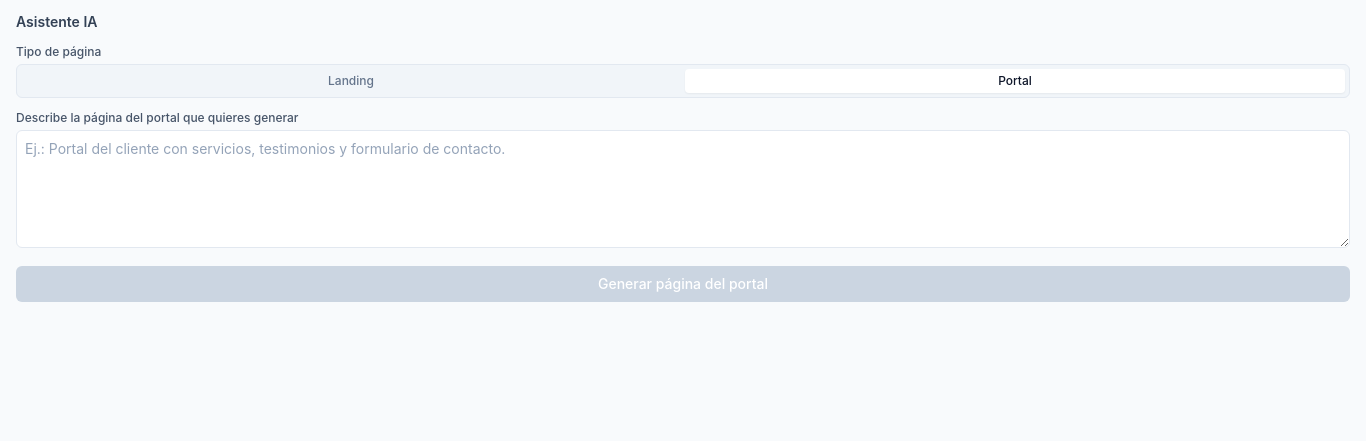
AIPanel › genera una página del portal en modo portal y permite aplicarla
Click the button "Portal": {"x": 1015, "y": 81} [685,69,1345,93]
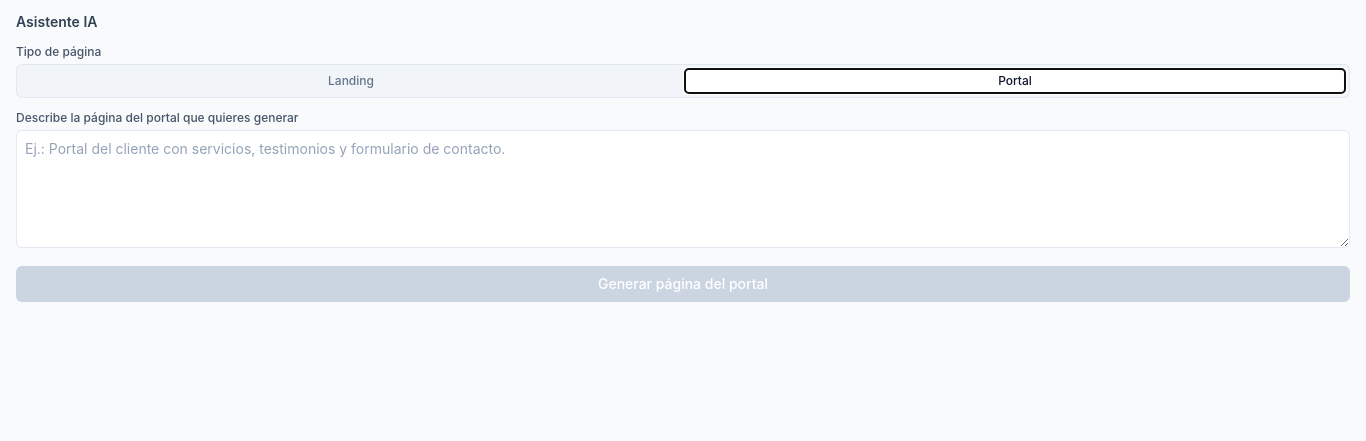
In the text box labelled "Describe la página del portal que quieres generar": {"x": 683, "y": 189} [16,130,1350,248], type "Portal de servicios para una clínica"
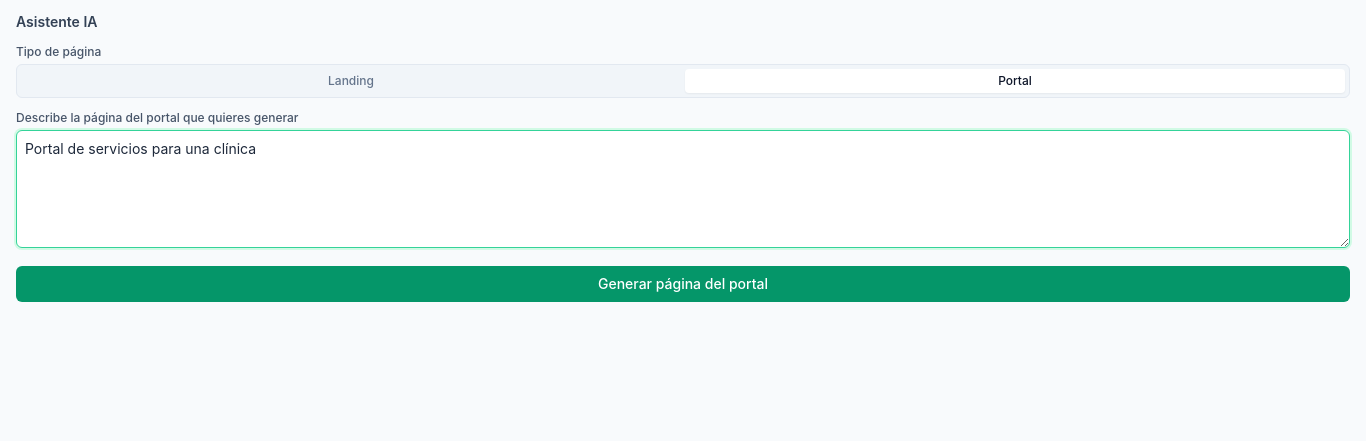
Click the button "Generar página del portal": {"x": 683, "y": 284} [16,266,1350,302]
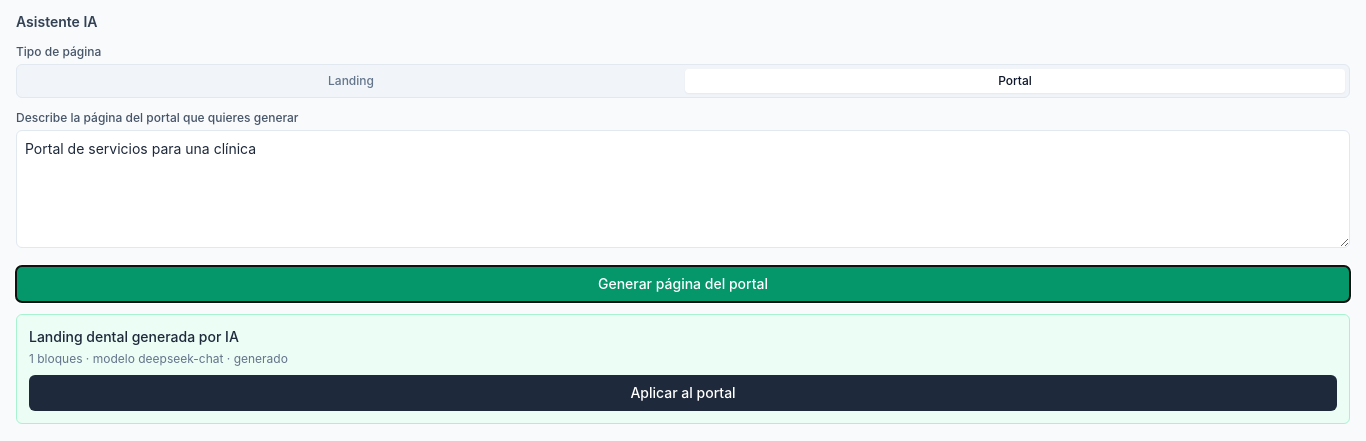
Expected: the text "Landing dental generada por IA" is shown, [29,328,239,345]
Expected: the button "Aplicar al portal" is shown
Click the button "Aplicar al portal": {"x": 683, "y": 393} [29,375,1337,411]
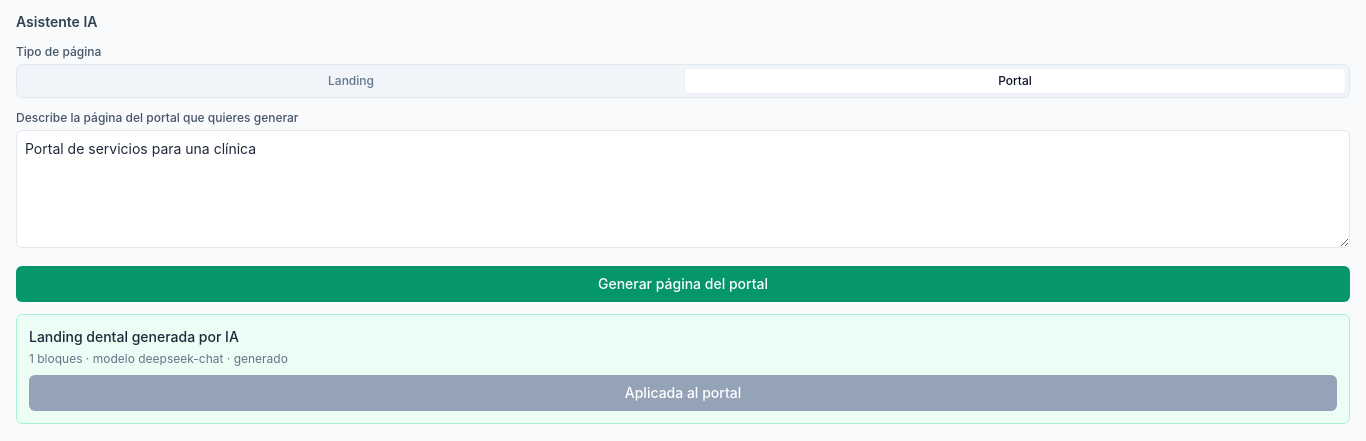
Expected: the button "Aplicada al portal" is disabled, [29,375,1337,411]
